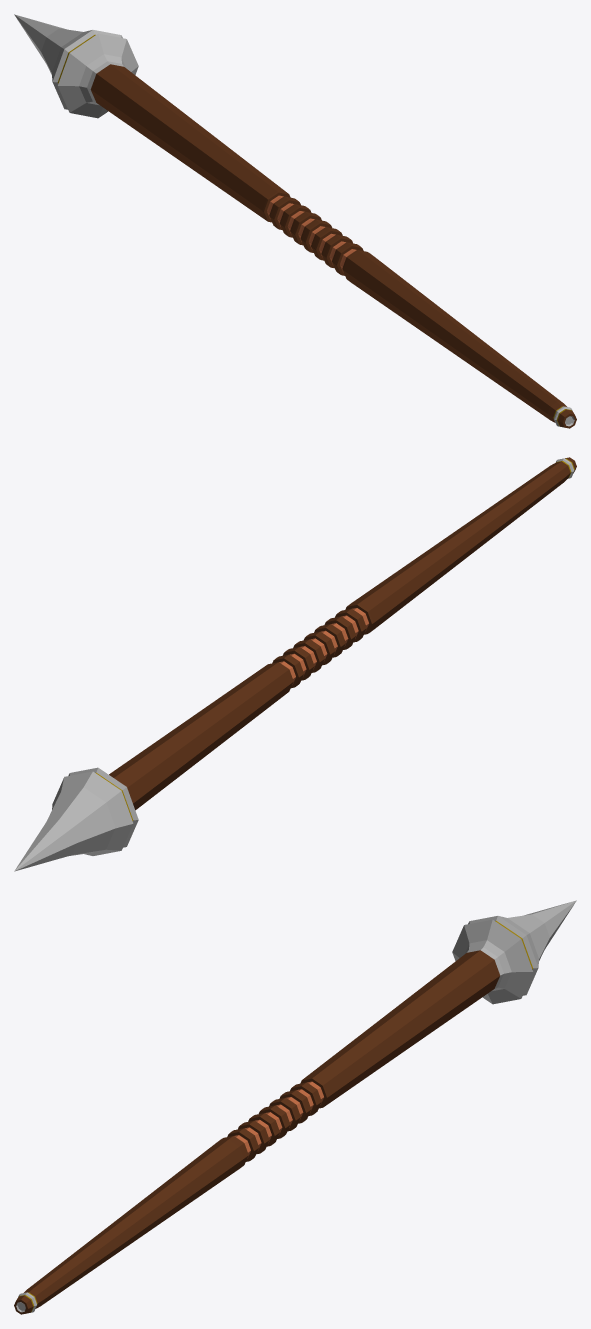
File: spear.fbx
3 renders of one model, top to bottom at view 1: azimuth 30°, elevation 25°; view 2: azimuth 150°, elevation 25°; view 3: azimuth 330°, elevation 25°, orthographic.
Parts seen in each view (by area): view 1: Cylinder; view 2: Cylinder; view 3: Cylinder.
Part boxes in pixels (left/top/right/bottom): Cylinder: left=14, top=14, right=576, bottom=428; Cylinder: left=14, top=457, right=576, bottom=871; Cylinder: left=14, top=900, right=576, bottom=1314.
Size of the model in its own units: 189 by 189 by 2243.
